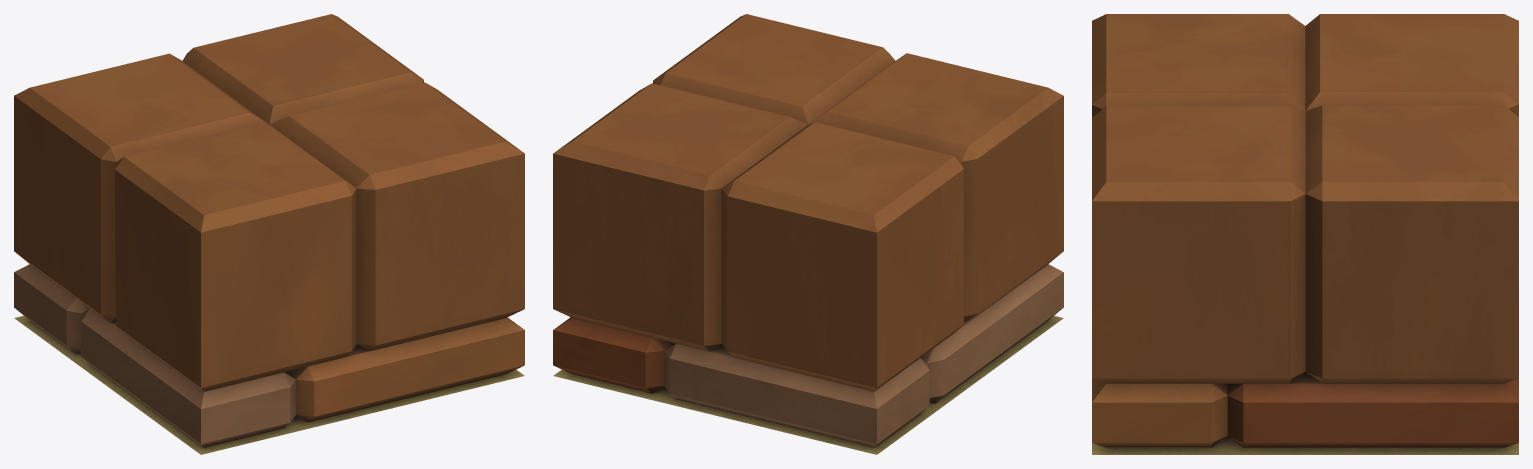
The model's file is H-Mur2A.FBX.
3 views of the same model, side by side, from view 1: azimuth 30°, elevation 25°; view 2: azimuth 150°, elevation 25°; view 3: azimuth 270°, elevation 25° (orthographic). The views are drawn at different scales.
Parts seen in each view (by area): view 1: H-Mur; view 2: H-Mur; view 3: H-Mur.
Boxes of the visible parts, x1,y1,x2,y2 form: H-Mur: (14,14,524,454); H-Mur: (553,14,1063,454); H-Mur: (1092,14,1518,454).
Size of the model in its own units: 2 by 1.37 by 2.
